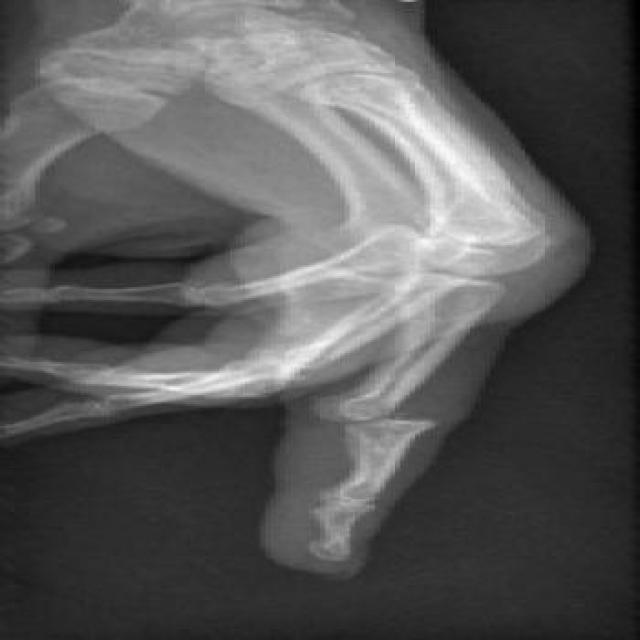Fracture: (328, 398, 466, 442)
